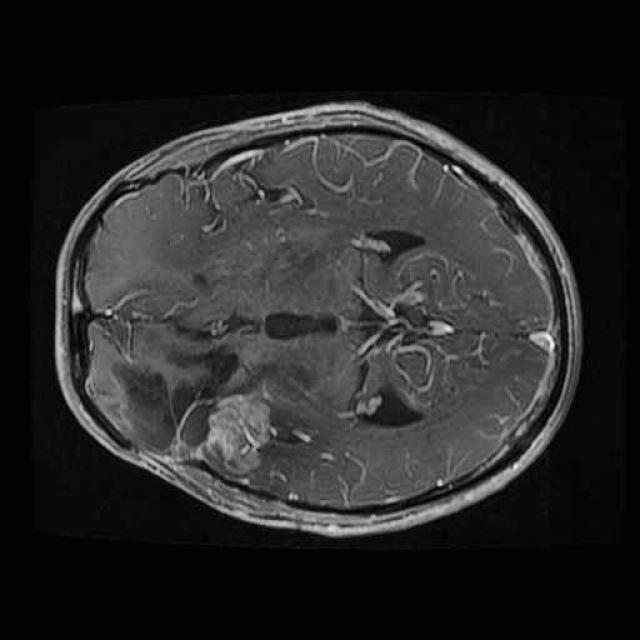Non-Tumor: (85, 300, 289, 505)
